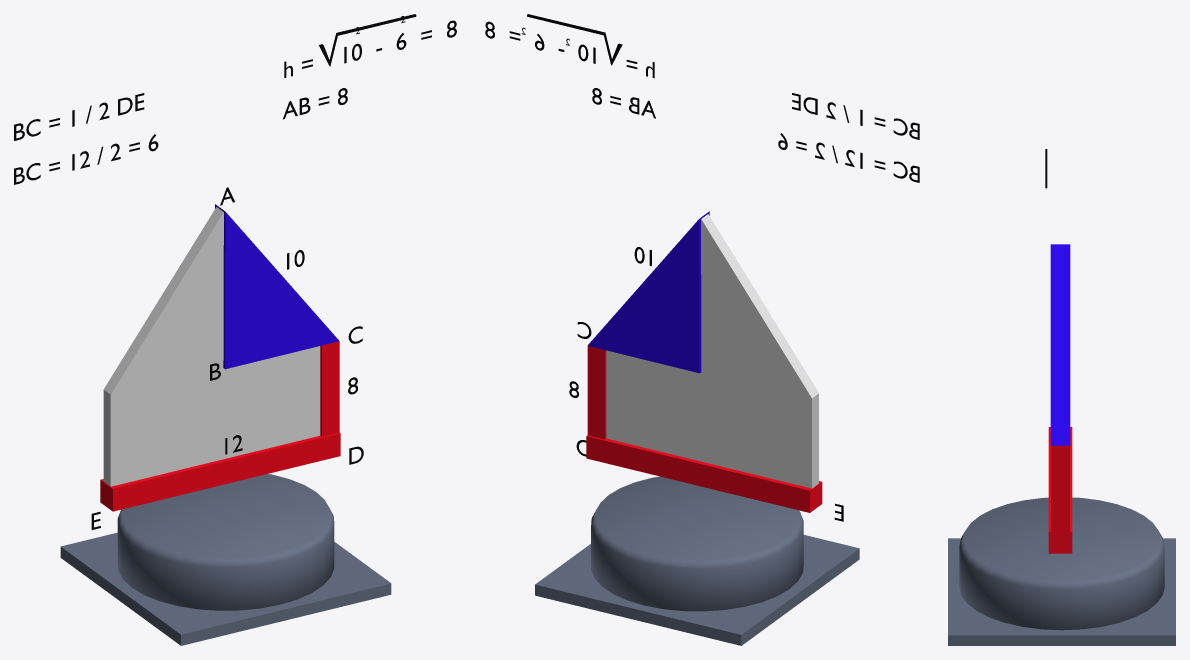
3 views of the same model, side by side, from view 1: azimuth 30°, elevation 25°; view 2: azimuth 150°, elevation 25°; view 3: azimuth 270°, elevation 25° (orthographic). The views are drawn at different scales.
Parts seen in each view (by area): view 1: подставка, Cube, Cube.001, Cube.002, Cube.003, Text.009, Text.008; view 2: подставка, Cube, Cube.001, Cube.002, Cube.003, Text.009, Text.008; view 3: подставка, Cube.002, Cube.003.
Boxes of the visible parts, <box> form: подставка: <box>60,474,391,645</box>; Cube: <box>103,346,320,486</box>; Cube.001: <box>103,207,223,394</box>; Cube.002: <box>215,204,339,369</box>; Cube.003: <box>100,341,340,511</box>; Text.009: <box>14,134,158,184</box>; Text.008: <box>14,93,144,140</box>; подставка: <box>535,476,859,645</box>; Cube: <box>606,350,818,488</box>; Cube.001: <box>701,214,818,398</box>; Cube.002: <box>587,211,709,373</box>; Cube.003: <box>586,346,822,512</box>; Text.009: <box>778,133,919,182</box>; Text.008: <box>792,93,919,139</box>; подставка: <box>948,497,1175,645</box>; Cube.002: <box>1050,244,1070,445</box>; Cube.003: <box>1048,427,1072,553</box>.
Bounding box in the file's own units: 19.27 × 21.79 × 9.09.
